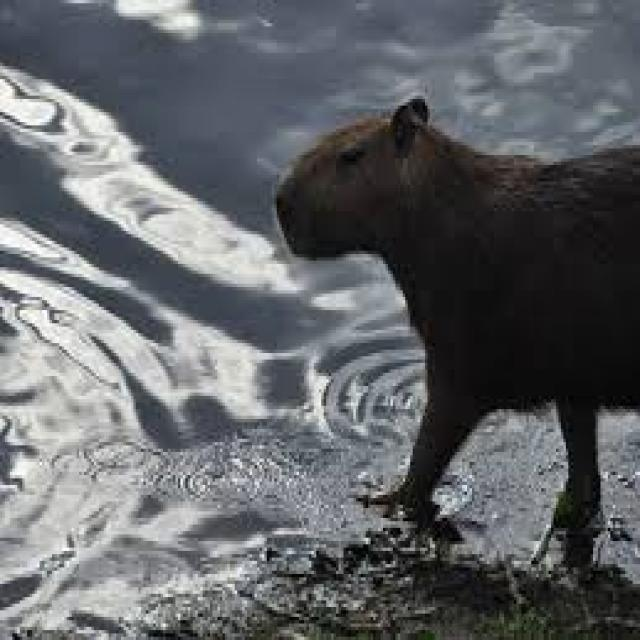capy: (272, 89, 640, 548)
